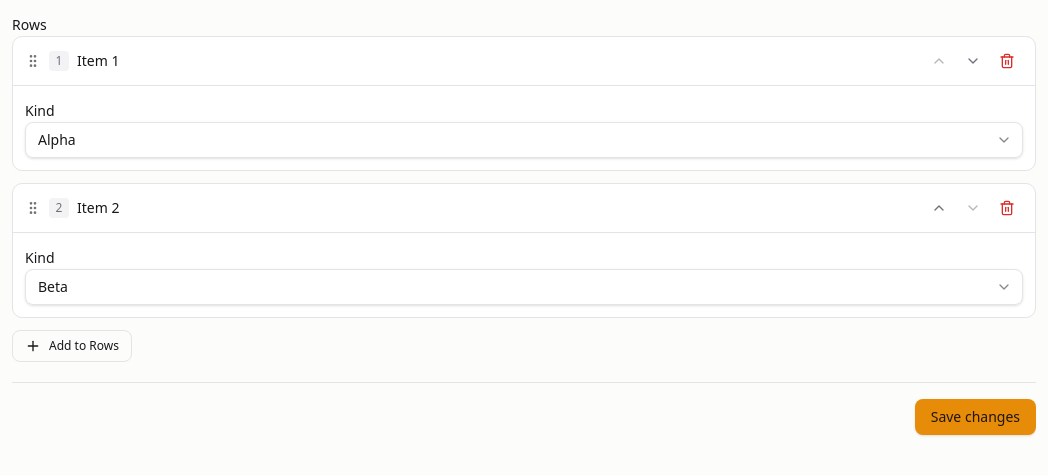
it: fixIndistinctState › does nothing without fixIndistinctState
Select "Alpha" in the dropdown labelled "Kind" below "Item 2": (524, 287) [25,269,1023,305]
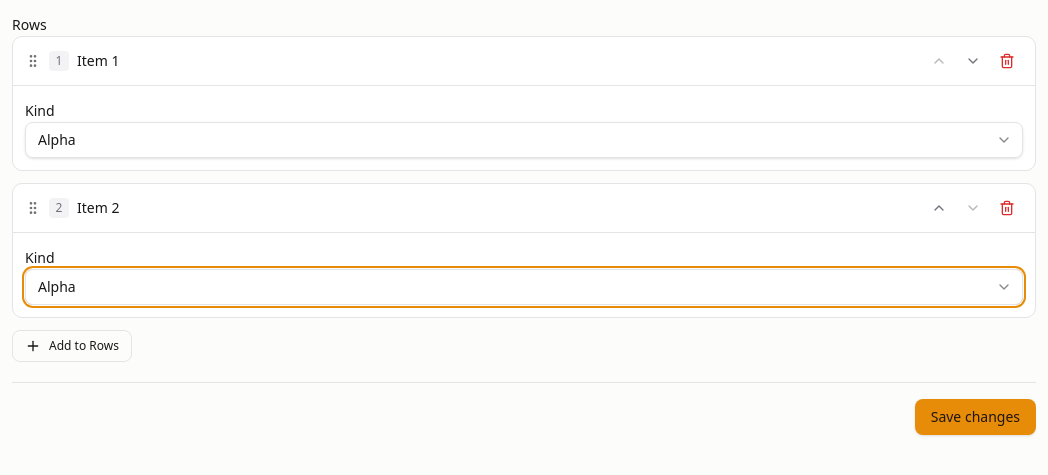
Click the button "Save changes": (975, 417) [915,399,1036,435]
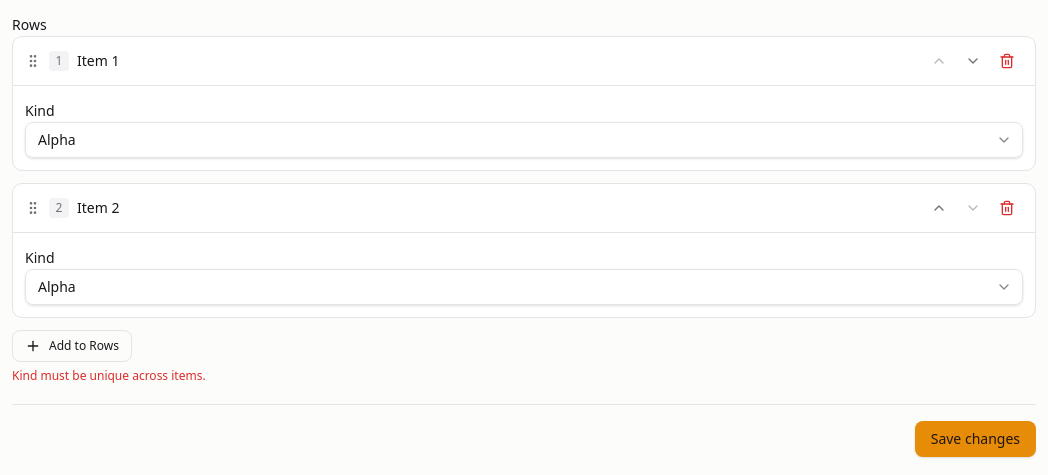
Result: the text "Kind must be unique across items." is shown at [12,367,206,384]
